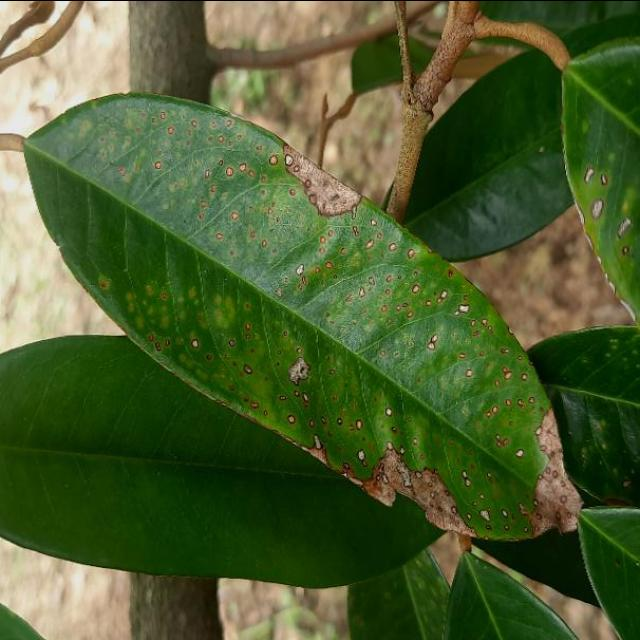Leaf Spot: (11, 72, 587, 570)
